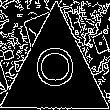O_W: (33, 50, 78, 95)
